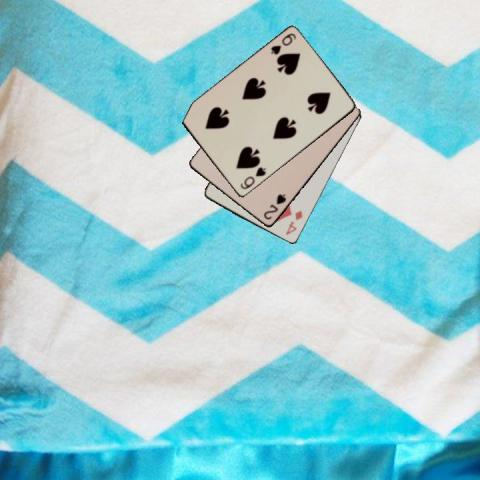2s: (261, 192, 287, 222)
4d: (283, 208, 304, 237)
6s: (237, 164, 268, 191), (268, 30, 297, 56)
